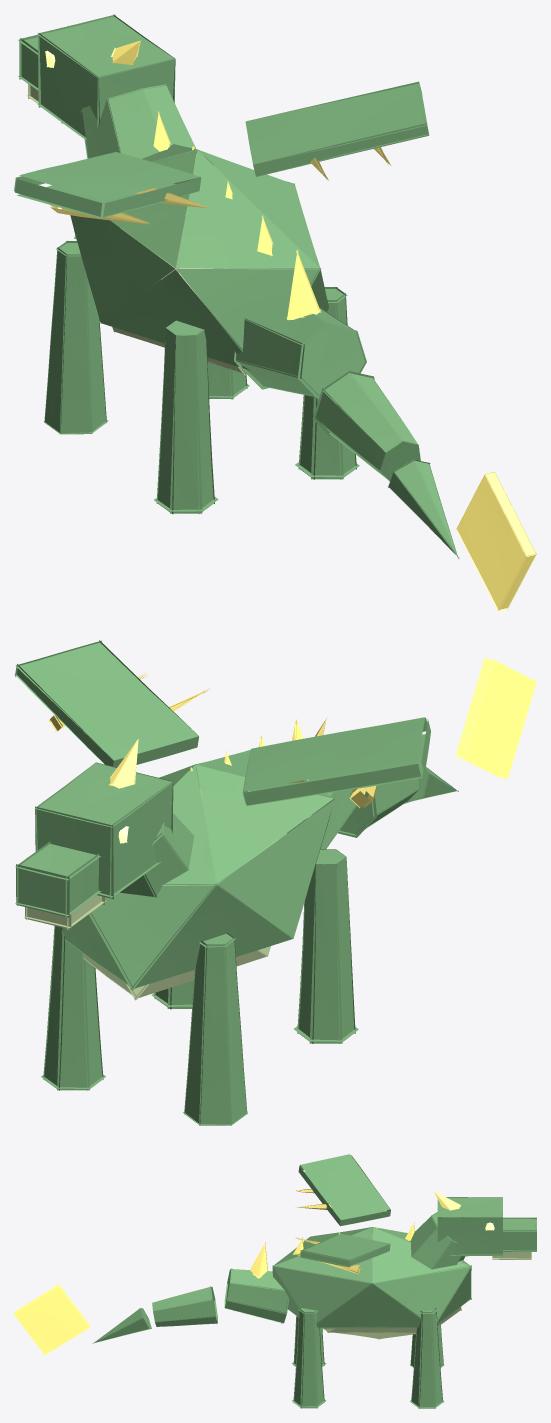
File: dragon_hatchling.glb
3 views of the same model, one above another, from view 1: azimuth 30°, elevation 25°; view 2: azimuth 150°, elevation 25°; view 3: azimuth 270°, elevation 25° (orthographic). The views are drawn at different scales.
Visible parts, largest first — view 1: DragonBody; view 2: DragonBody; view 3: DragonBody.
Part boxes in pixels (bbox=[...]): DragonBody: bbox=[14, 14, 536, 611]; DragonBody: bbox=[14, 640, 536, 1125]; DragonBody: bbox=[14, 1154, 536, 1408].
Size of the model in its own units: 1.66 by 1.41 by 3.44.
